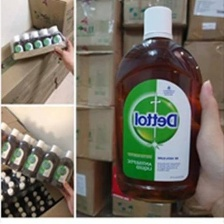book: (0, 26, 71, 105), (108, 153, 179, 220), (178, 35, 224, 113), (70, 106, 127, 164), (68, 48, 120, 111), (70, 0, 124, 54), (22, 0, 83, 45), (71, 155, 111, 215), (119, 0, 193, 31)
cleaning_solution: (110, 4, 206, 204), (19, 139, 48, 181), (36, 142, 63, 186), (4, 133, 35, 171), (50, 148, 76, 190), (0, 127, 23, 165), (48, 23, 66, 51), (28, 29, 45, 56), (37, 26, 54, 53), (11, 33, 27, 58), (20, 32, 36, 56)
